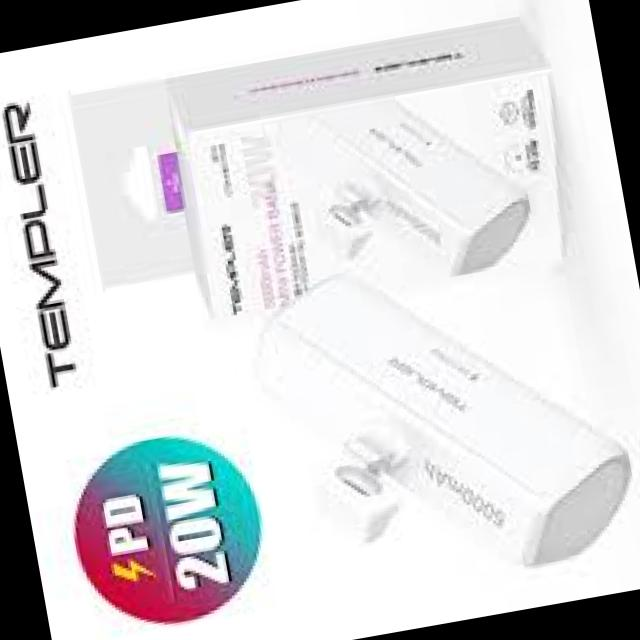power_bank: (234, 233, 640, 616), (295, 77, 541, 300)
